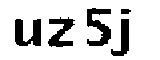5: (83, 6, 116, 48)
j: (115, 6, 137, 60)
u: (11, 16, 43, 51)
z: (47, 15, 76, 49)
